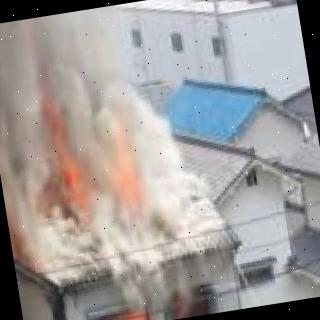fire: (26, 114, 148, 226), (96, 293, 215, 320), (9, 229, 35, 320)
